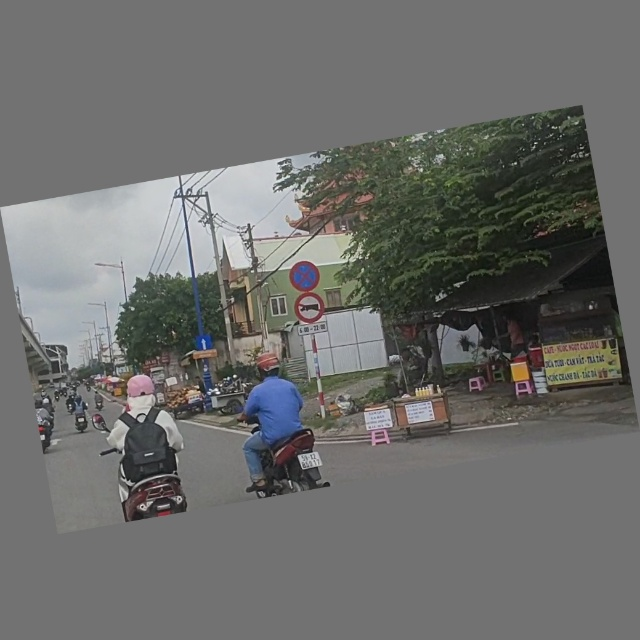B.8a: (292, 291, 327, 326)
I.407a: (195, 334, 214, 353)
P.130: (288, 260, 323, 294)
